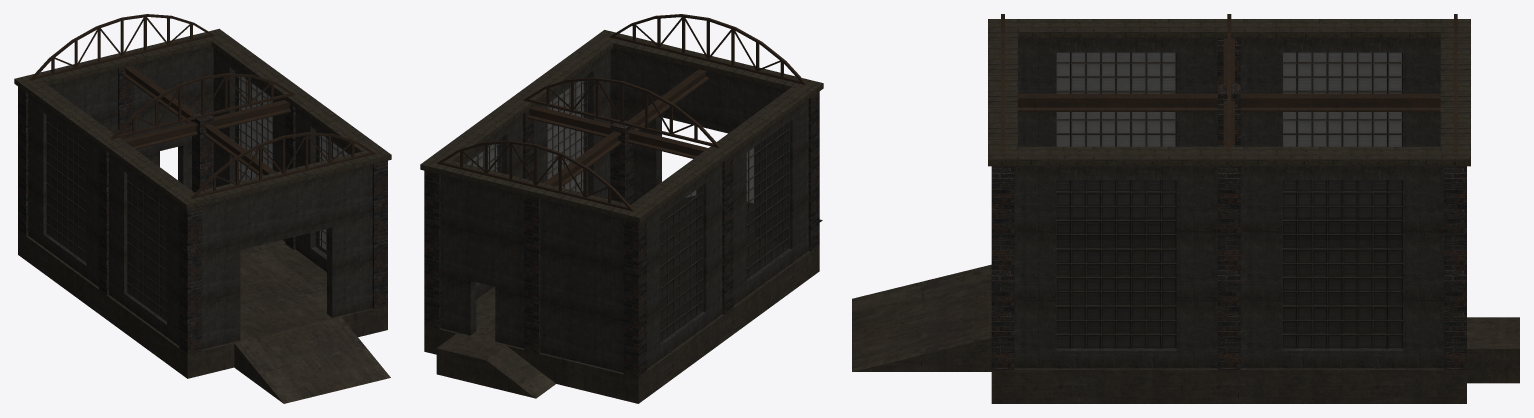
Rendered from warehouse_mx_3.glb.
3 views of the same model, side by side, from view 1: azimuth 30°, elevation 25°; view 2: azimuth 150°, elevation 25°; view 3: azimuth 270°, elevation 25° (orthographic). The views are drawn at different scales.
Parts seen in each view (by area): view 1: warehouse_mx_3; view 2: warehouse_mx_3; view 3: warehouse_mx_3.
Boxes of the visible parts, box(x1,y1,x2,y2) form: warehouse_mx_3: box(14, 14, 391, 403); warehouse_mx_3: box(420, 14, 823, 403); warehouse_mx_3: box(852, 14, 1519, 403).
Bounding box in the file's own units: 8.8 × 8.82 × 17.7.
7 materials, 7 textured.
